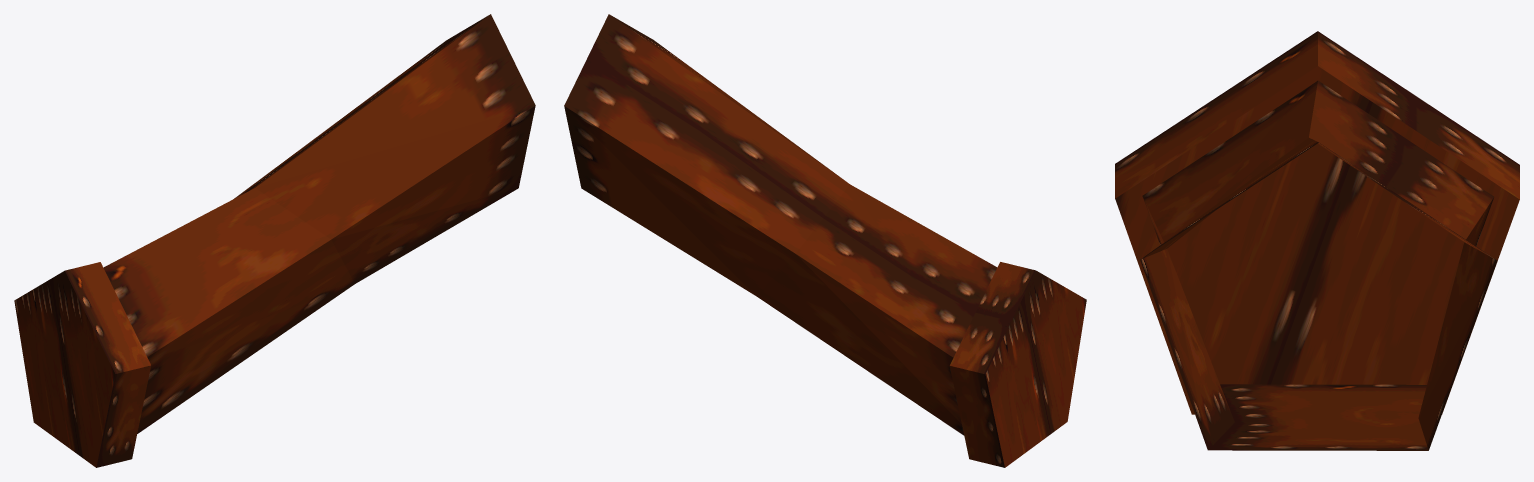
File: Rohr_StückSchräg [Rostig]_1522.glb
3 renders of one model, left to right at view 1: azimuth 30°, elevation 25°; view 2: azimuth 150°, elevation 25°; view 3: azimuth 270°, elevation 25°, orthographic. The views are drawn at different scales.
Visible parts, largest first — view 1: pCylinderShape75, pCylinderShape76; view 2: pCylinderShape75, pCylinderShape76; view 3: pCylinderShape76, pCylinderShape75.
Boxes of the visible parts, x1,y1,x2,y2 form: pCylinderShape75: (103, 14, 535, 433); pCylinderShape76: (14, 262, 151, 467); pCylinderShape75: (564, 14, 997, 435); pCylinderShape76: (949, 262, 1086, 467); pCylinderShape76: (1115, 31, 1519, 414); pCylinderShape75: (1140, 80, 1497, 450).
Size of the model in its own units: 1.04 by 0.7654 by 0.4294.
2 materials, 2 textured.
